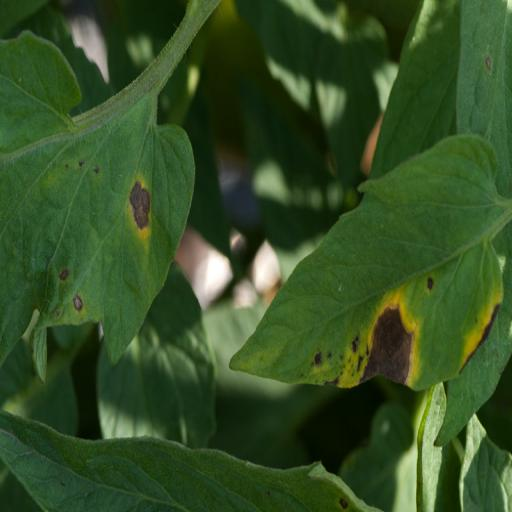Early Blight: (224, 128, 506, 392), (0, 22, 196, 378)
